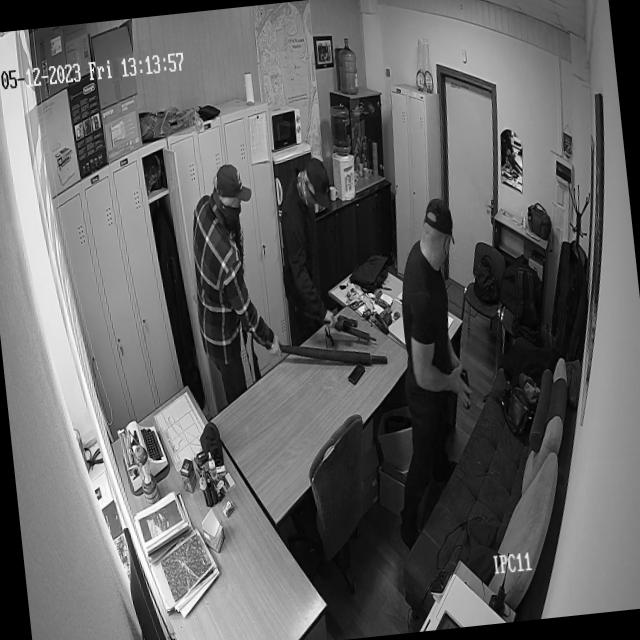gun: (316, 322, 378, 351), (450, 360, 476, 413), (334, 306, 359, 332)
person: (182, 154, 298, 408)
person with a gun: (386, 185, 482, 424), (273, 153, 381, 354)
